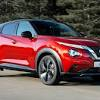Nissan: (1, 20, 100, 82)
